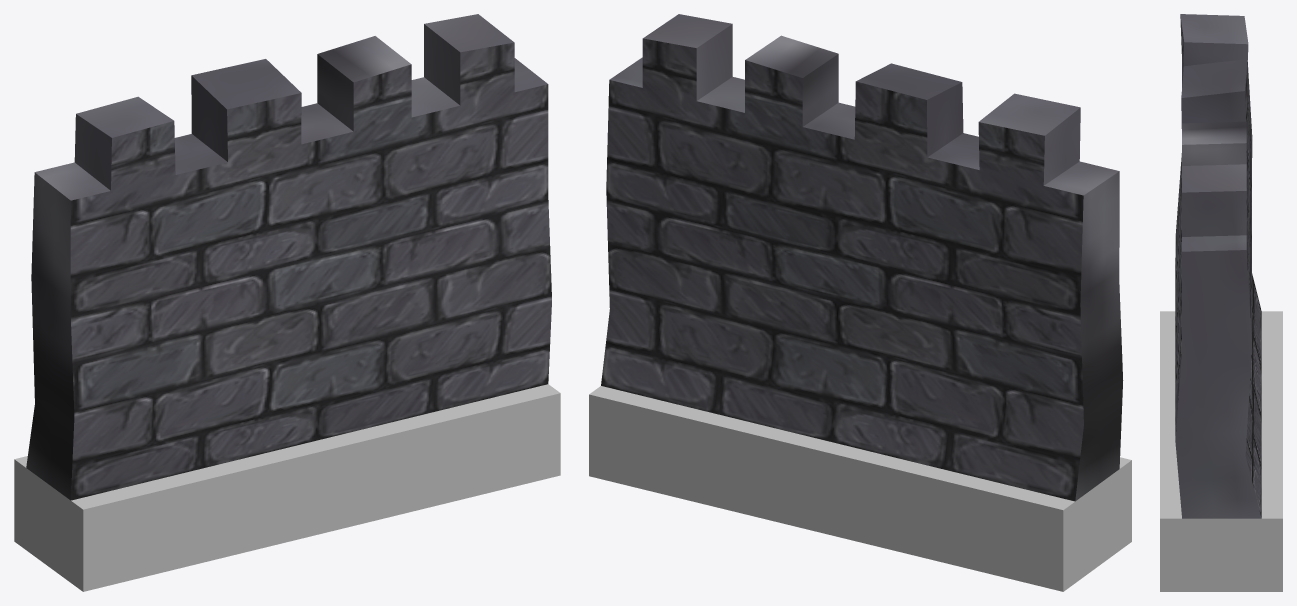
File: e_castle_ext_wall.fbx
3 views of the same model, side by side, from view 1: azimuth 30°, elevation 25°; view 2: azimuth 150°, elevation 25°; view 3: azimuth 270°, elevation 25° (orthographic). The views are drawn at different scales.
Parts seen in each view (by area): view 1: exterior:e_castle_ext_wall; view 2: exterior:e_castle_ext_wall; view 3: exterior:e_castle_ext_wall.
Boxes of the visible parts, x1=… form: exterior:e_castle_ext_wall: x1=14, y1=14, x2=560, y2=591; exterior:e_castle_ext_wall: x1=589, y1=14, x2=1131, y2=591; exterior:e_castle_ext_wall: x1=1160, y1=14, x2=1282, y2=591.
Size of the model in its own units: 6 by 5.31 by 1.5.
